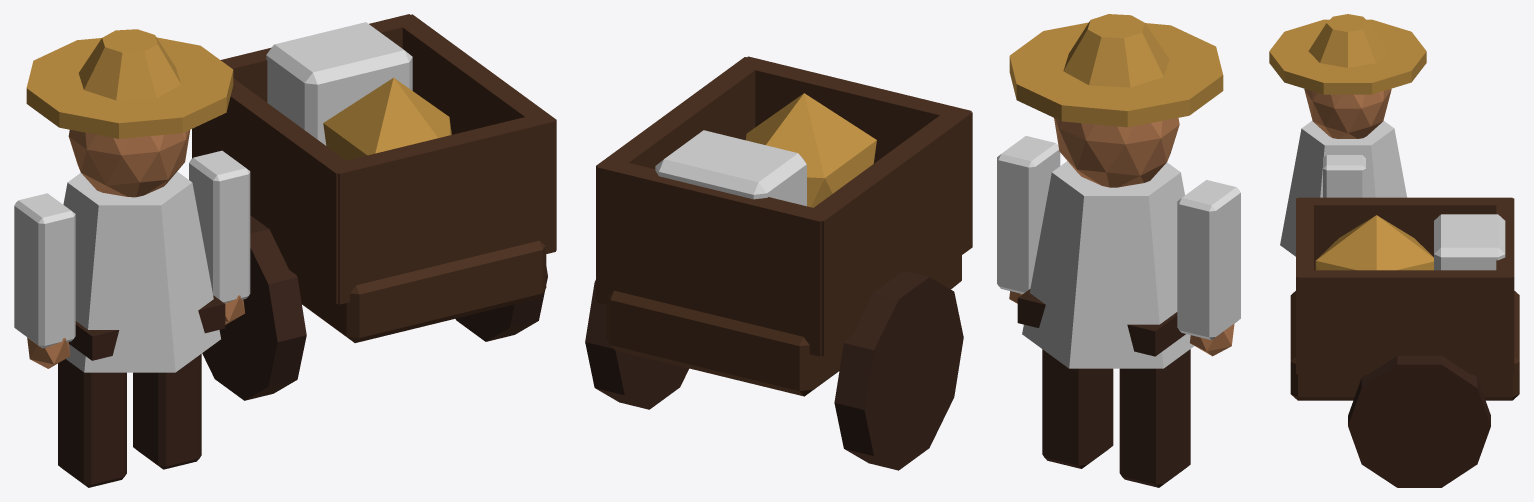
File: merchant.glb
3 renders of one model, left to right at view 1: azimuth 30°, elevation 25°; view 2: azimuth 150°, elevation 25°; view 3: azimuth 270°, elevation 25°, orthographic. The views are drawn at different scales.
Visible parts, largest first — view 1: merchant; view 2: merchant; view 3: merchant.
Part boxes in pixels (x1,y1,x2,y2): merchant: (14, 14, 556, 487); merchant: (585, 14, 1240, 487); merchant: (1269, 14, 1519, 487).
Bounding box in the file's own units: 0.63 × 0.4875 × 0.35.
